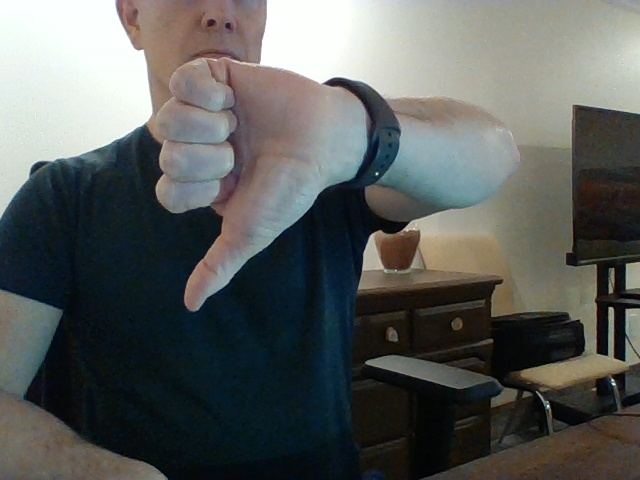ThumbsDown: (155, 57, 323, 313)
